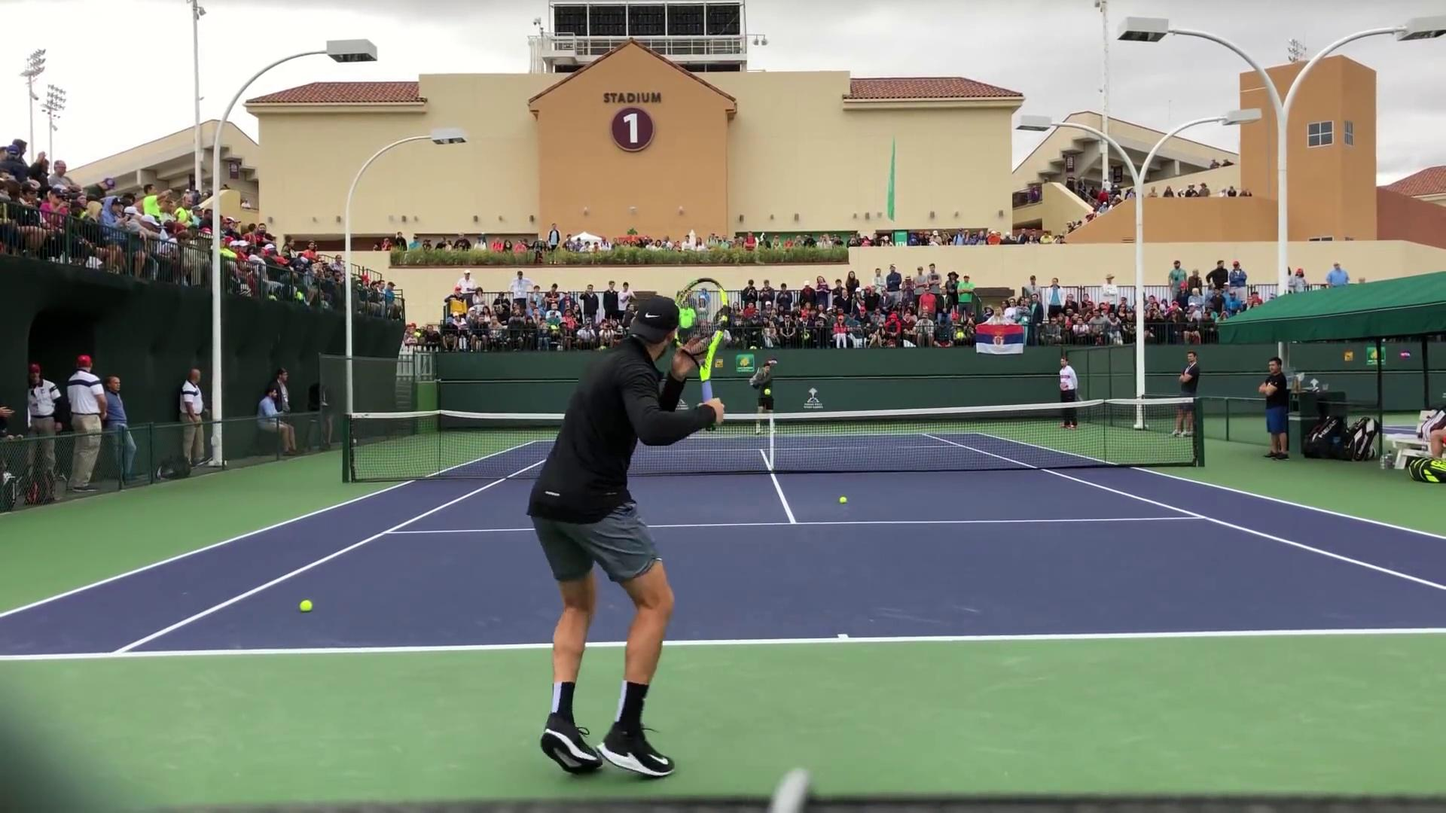ball: (299, 600, 315, 612), (838, 495, 847, 504), (762, 388, 771, 395)
